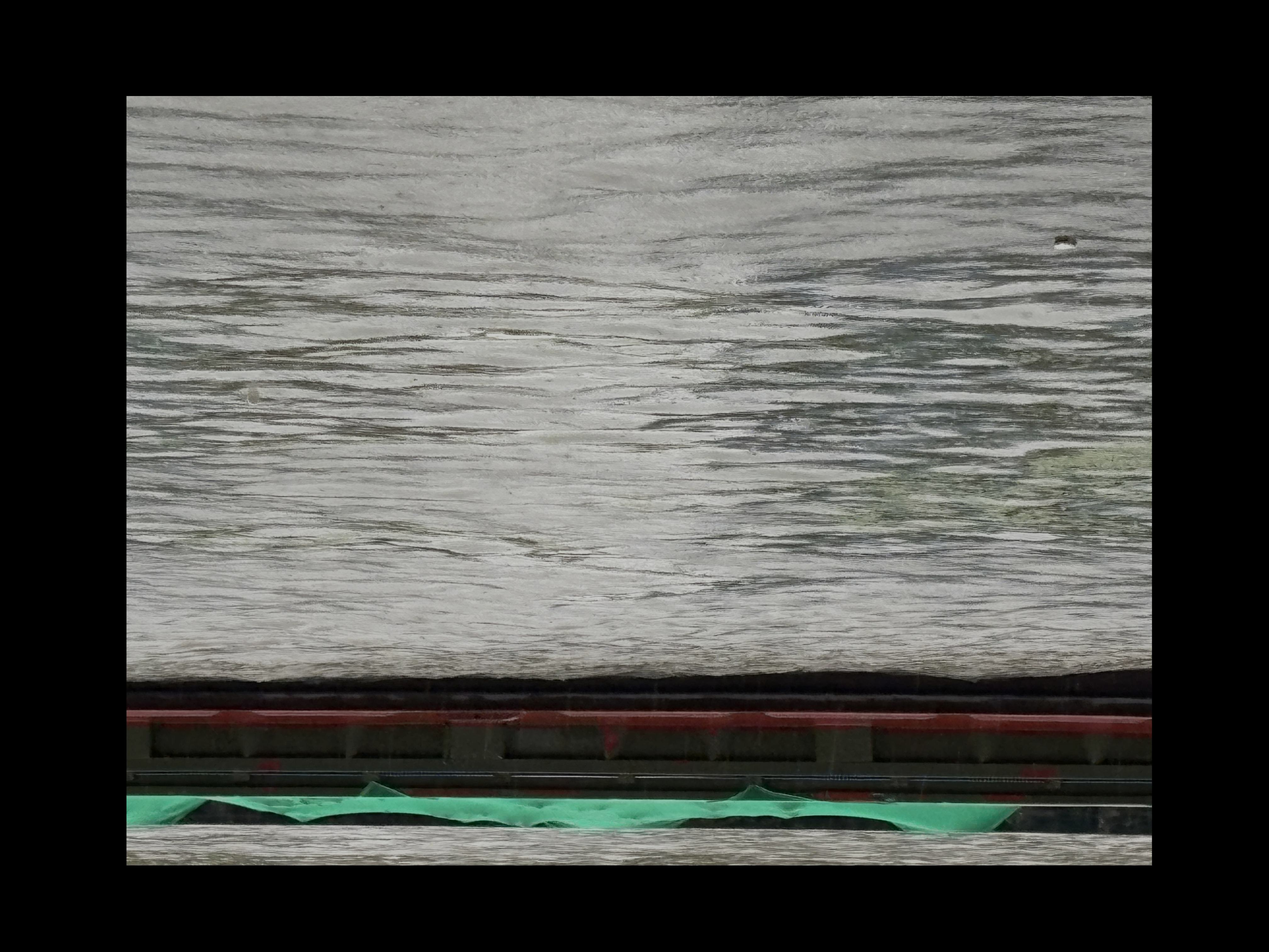Plastic wastes: (1054, 237, 1078, 256)
